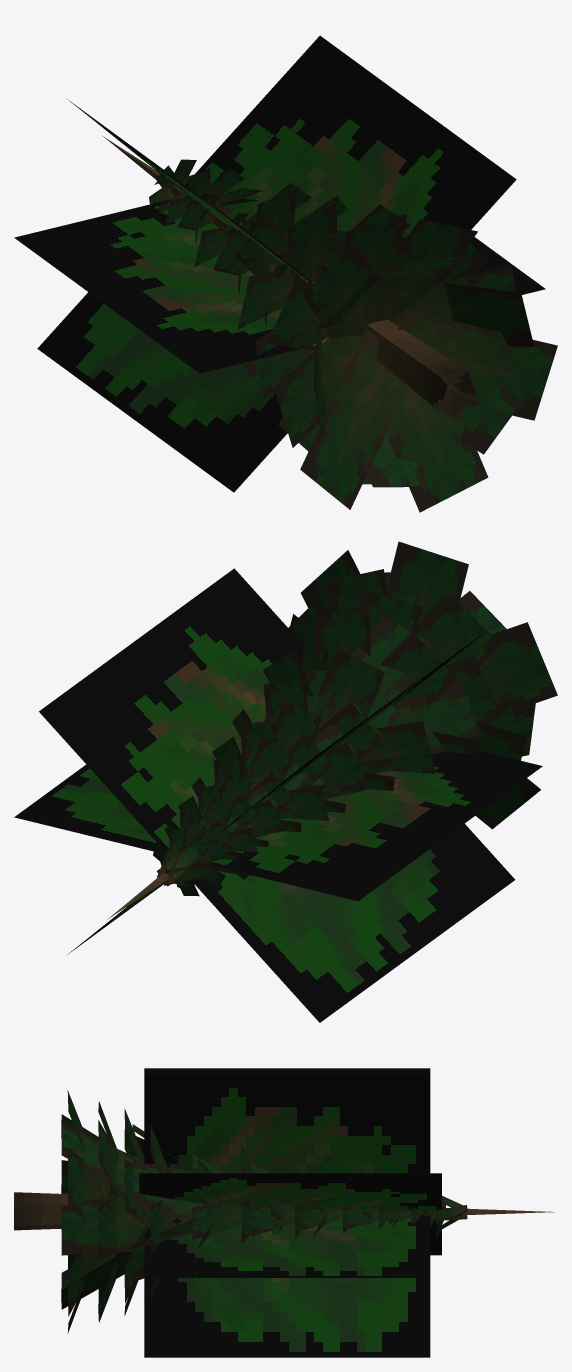
Rendered from Trees.fbx.
3 views of the same model, one above another, from view 1: azimuth 30°, elevation 25°; view 2: azimuth 150°, elevation 25°; view 3: azimuth 270°, elevation 25° (orthographic). The views are drawn at different scales.
Parts seen in each view (by area): view 1: Tree1, Tree, Tree_col; view 2: Tree1, Tree; view 3: Tree1, Tree, Tree_col.
Boxes of the visible parts, x1,y1,x2,y2 form: Tree1: (14,35,545,492); Tree: (149,159,557,512); Tree_col: (103,136,476,417); Tree1: (14,568,542,1022); Tree: (153,541,557,896); Tree1: (139,1068,441,1357); Tree: (61,1090,467,1333); Tree_col: (14,1192,554,1230).
Size of the model in its own units: 10570 by 10570 by 18694.
